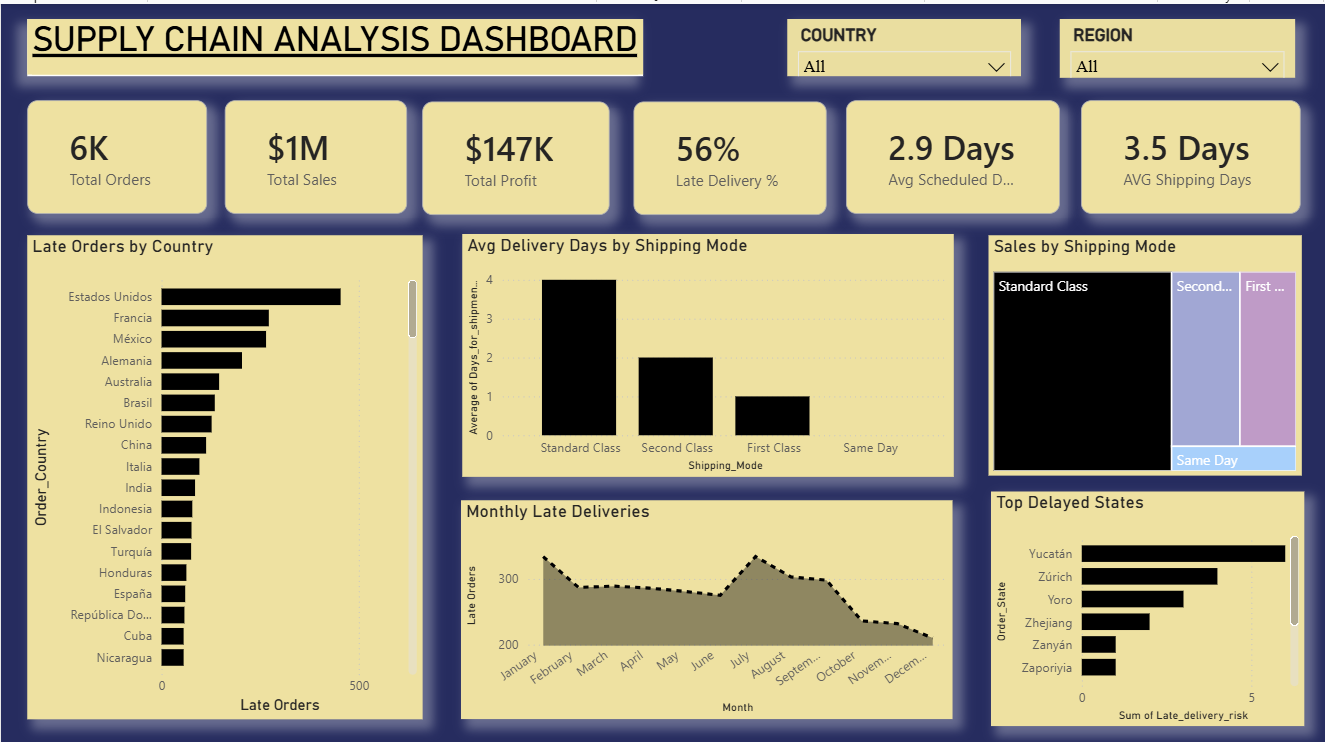

The dashboard page shown, as its layout file describes it:
{"tool":"powerbi","page":{"name":"Page 1","canvas":[1280,720],"ordinal":0},"visuals":[{"type":"cardVisual","fields":{"Data":["DataCoSupplyChainDataset.Total Orders"]},"box":[25.7,92.9,191.4,110],"z":0},{"type":"cardVisual","fields":{"Data":["DataCoSupplyChainDataset.Total Profit"]},"box":[434.7,92.7,181,109.8],"z":1000},{"type":"cardVisual","fields":{"Data":["DataCoSupplyChainDataset.Total Sales"]},"box":[230.9,92.7,191,109.8],"z":2000},{"type":"cardVisual","fields":{"Data":["DataCoSupplyChainDataset.Late Delivery %"]},"box":[640,92.7,186.7,109.8],"z":3000},{"type":"textbox","title":"SUPPLY CHAIN ANALYSIS DASHBOARD","box":[25.7,14.3,600,55.7],"z":4000},{"type":"slicer","fields":{"Values":["DataCoSupplyChainDataset.Order_Region"]},"box":[662.3,14.5,187.5,56.2],"z":5000},{"type":"slicer","fields":{"Values":["DataCoSupplyChainDataset.Order_Country"]},"box":[896.6,14.3,208.6,55.7],"z":6000},{"type":"clusteredBarChart","title":"Late Orders by Country","fields":{"Category":["country_wise.Order_Country"],"Y":["DataCoSupplyChainDataset.Late Orders"]},"box":[25.3,223.2,381.2,466.9],"z":7000},{"type":"columnChart","title":"Avg Delivery Days by Shipping Mode ","fields":{"Category":["DataCoSupplyChainDataset.Shipping_Mode"],"Y":["Avg(DataCoSupplyChainDataset.Days_for_shipment_scheduled)"]},"box":[444.7,222.4,474.1,234],"z":8000},{"type":"lineChart","title":"Monthly Late Deliveries","fields":{"Y":["DataCoSupplyChainDataset.Late Orders"],"Category":["DataCoSupplyChainDataset.order_date_DateOrders.Variation.Date Hierarchy.Month"]},"box":[444,479,474.1,211.1],"z":9000},{"type":"cardVisual","fields":{"Data":["DataCoSupplyChainDataset.Average Scheduled Days"]},"box":[851,92.7,206.7,109.8],"z":10000},{"type":"treemap","title":"Sales by Shipping Mode ","fields":{"Group":["DataCoSupplyChainDataset.Shipping_Mode"],"Values":["DataCoSupplyChainDataset.Total Sales"]},"box":[953.6,223.8,302.2,232.3],"z":11000},{"type":"barChart","title":"Top Delayed States","fields":{"Category":["DataCoSupplyChainDataset.Order_State"],"Y":["Sum(DataCoSupplyChainDataset.Late_delivery_risk)"]},"box":[955,470.4,302.2,226.6],"z":12000},{"type":"cardVisual","fields":{"Data":["DataCoSupplyChainDataset.Average Actual Shipping Days"]},"box":[1067.6,92.7,212.4,109.8],"z":12001}]}

Visuals, with their boxes in screenshot pixels (x1, y1, x2, y2), scaled from the page's 1280x720 canvas onto the 1325x742 screenshot:
cardVisual - DataCoSupplyChainDataset.Total Orders: box(27, 96, 225, 209)
cardVisual - DataCoSupplyChainDataset.Total Profit: box(450, 96, 637, 209)
cardVisual - DataCoSupplyChainDataset.Total Sales: box(239, 96, 437, 209)
cardVisual - DataCoSupplyChainDataset.Late Delivery %: box(662, 96, 856, 209)
"SUPPLY CHAIN ANALYSIS DASHBOARD" textbox: box(27, 15, 648, 72)
slicer - DataCoSupplyChainDataset.Order_Region: box(686, 15, 880, 73)
slicer - DataCoSupplyChainDataset.Order_Country: box(928, 15, 1144, 72)
"Late Orders by Country" clusteredBarChart: box(26, 230, 421, 711)
"Avg Delivery Days by Shipping Mode " columnChart: box(460, 229, 951, 470)
"Monthly Late Deliveries" lineChart: box(460, 494, 950, 711)
cardVisual - DataCoSupplyChainDataset.Average Scheduled Days: box(881, 96, 1095, 209)
"Sales by Shipping Mode " treemap: box(987, 231, 1300, 470)
"Top Delayed States" barChart: box(989, 485, 1301, 718)
cardVisual - DataCoSupplyChainDataset.Average Actual Shipping Days: box(1105, 96, 1324, 209)
